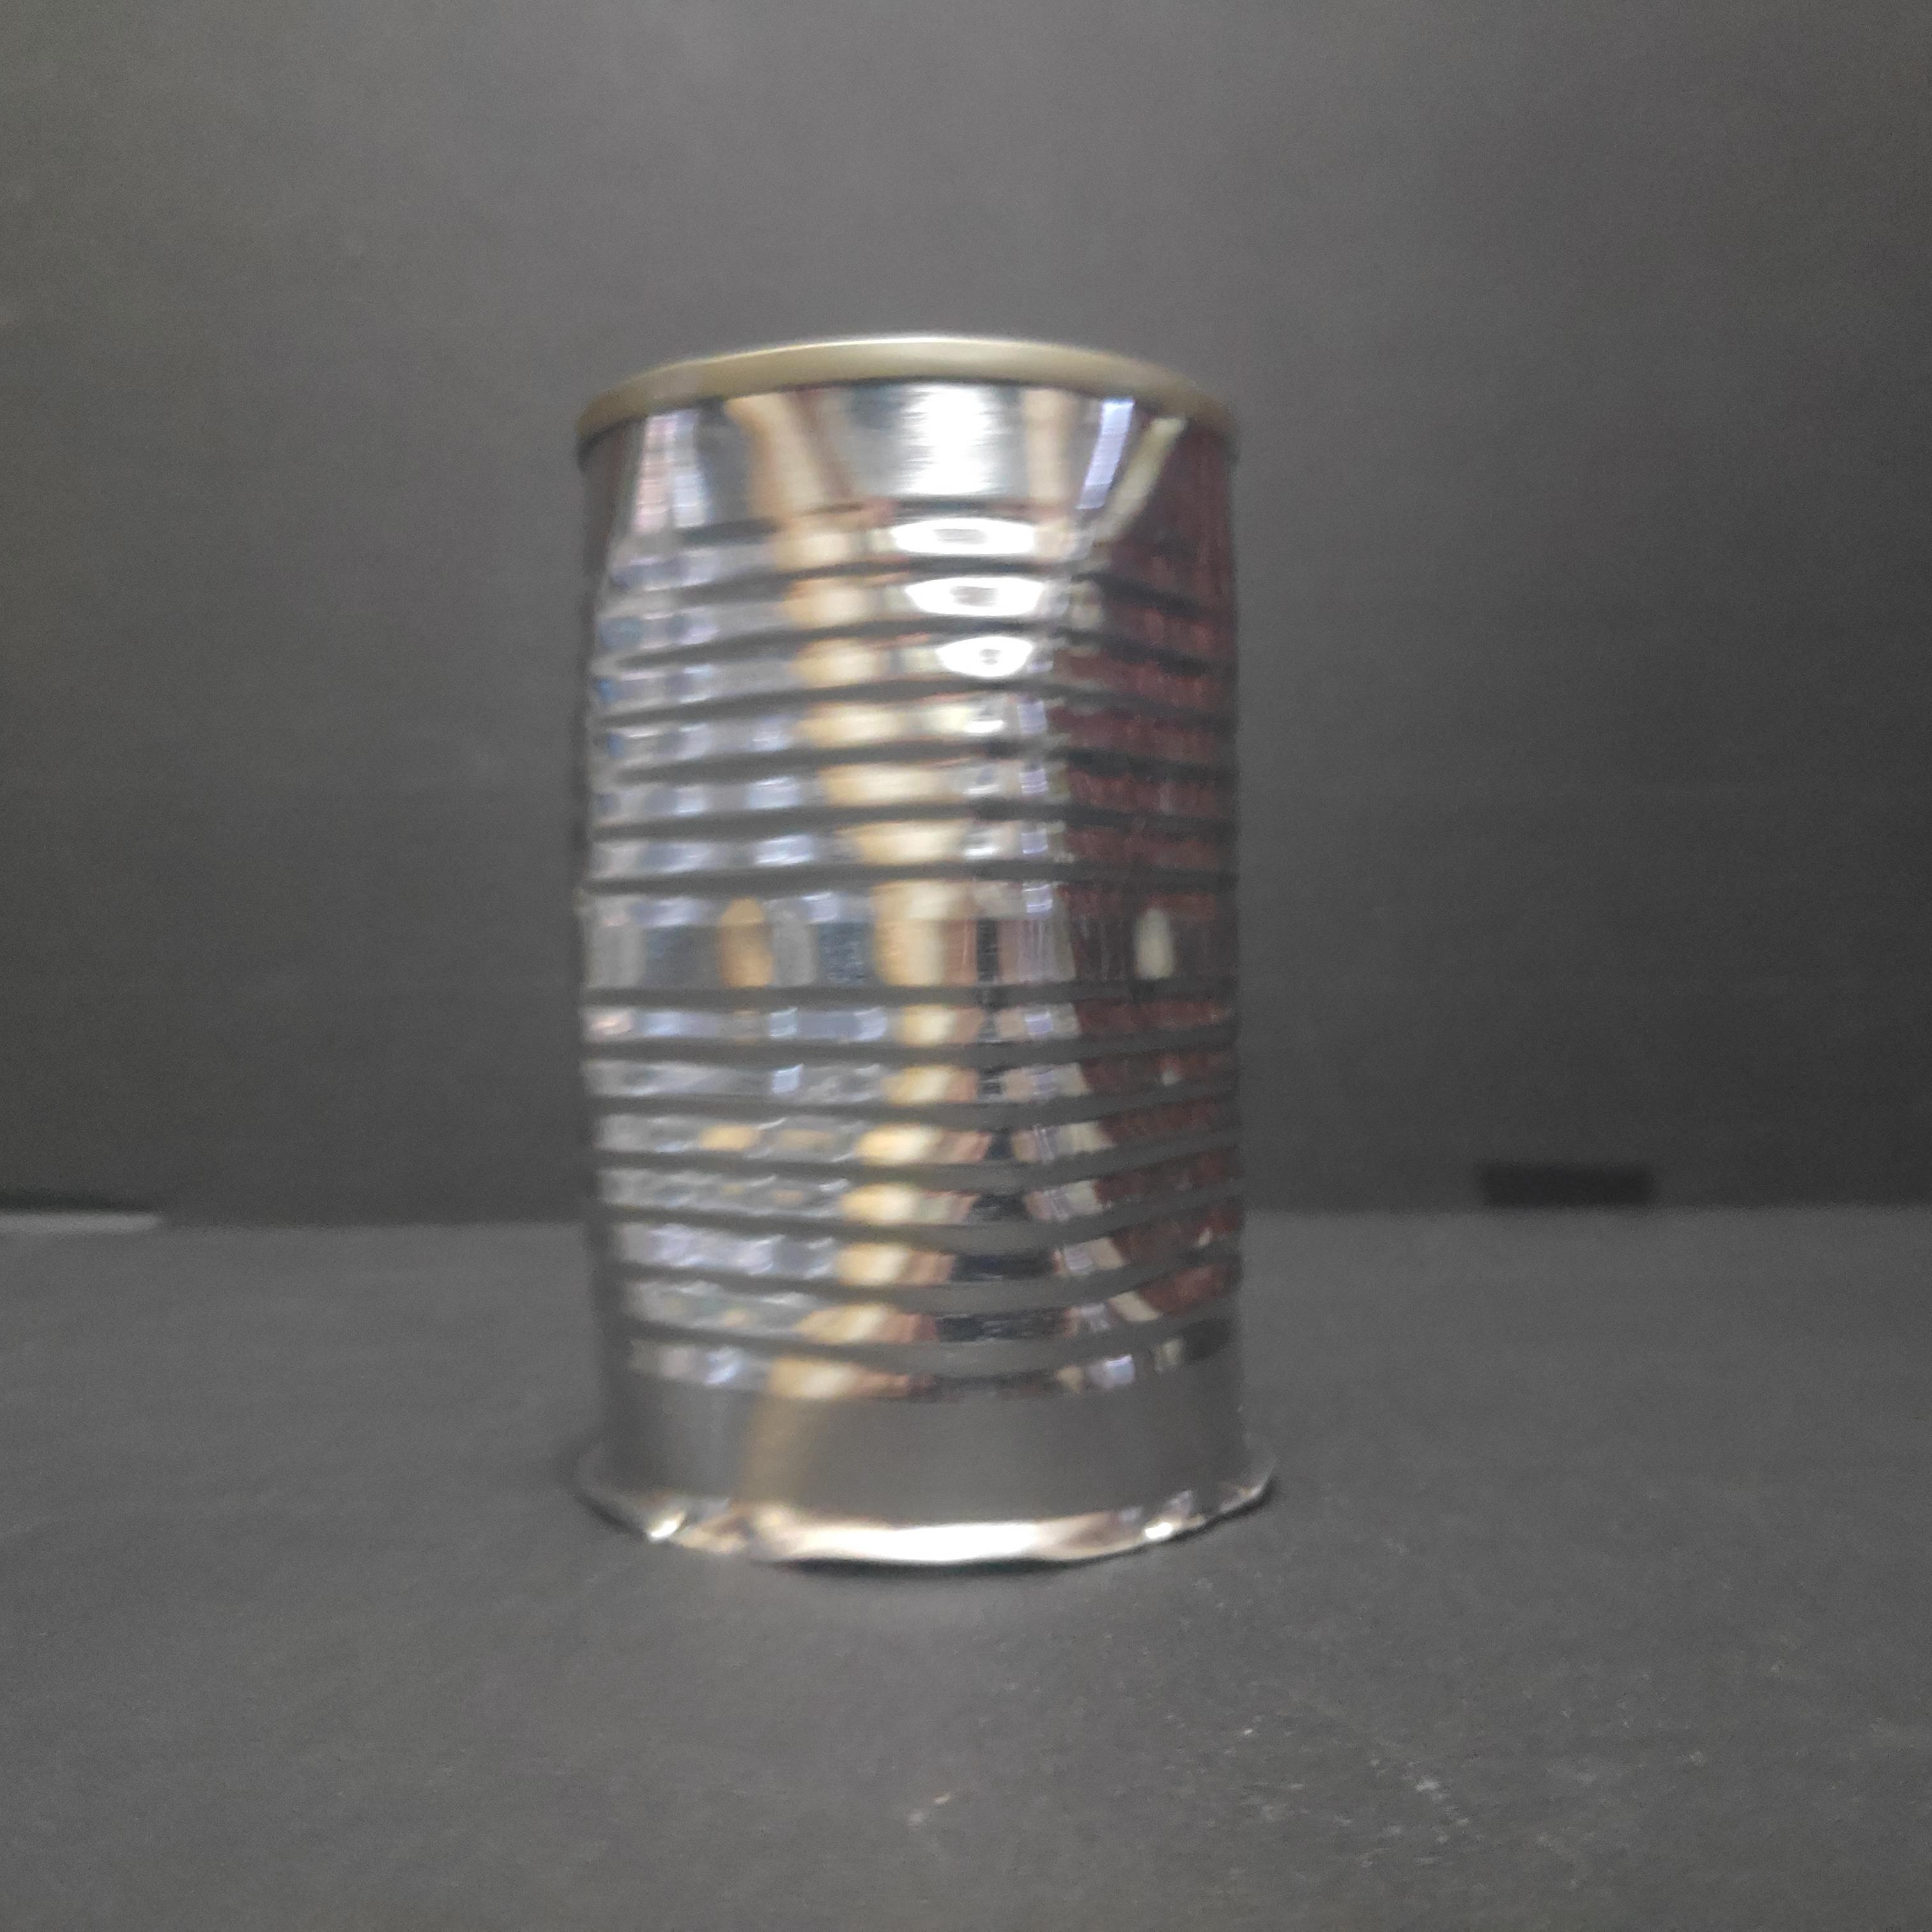Dented: (550, 333, 1293, 1598)
